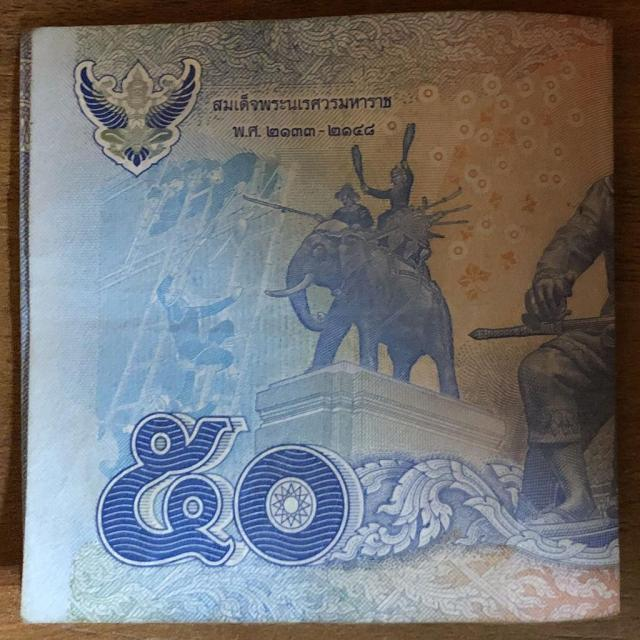THAI50: (21, 12, 619, 622)
